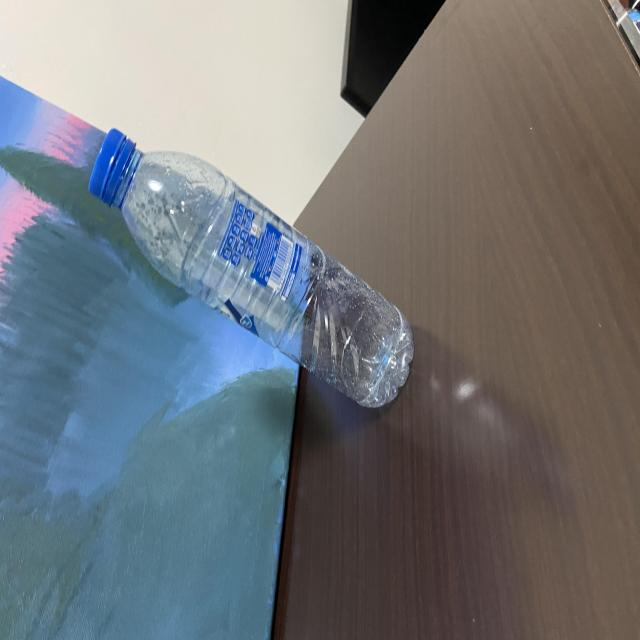bottle: (75, 111, 426, 418)
